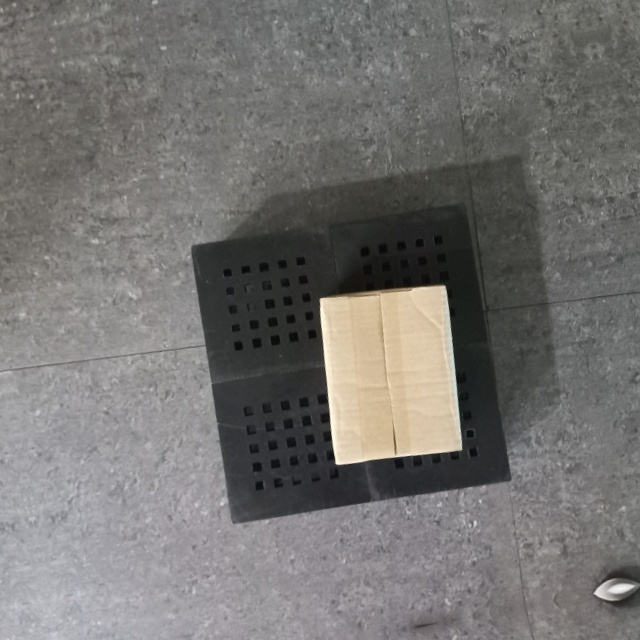box: (316, 281, 463, 470)
pallet: (185, 191, 513, 533)
